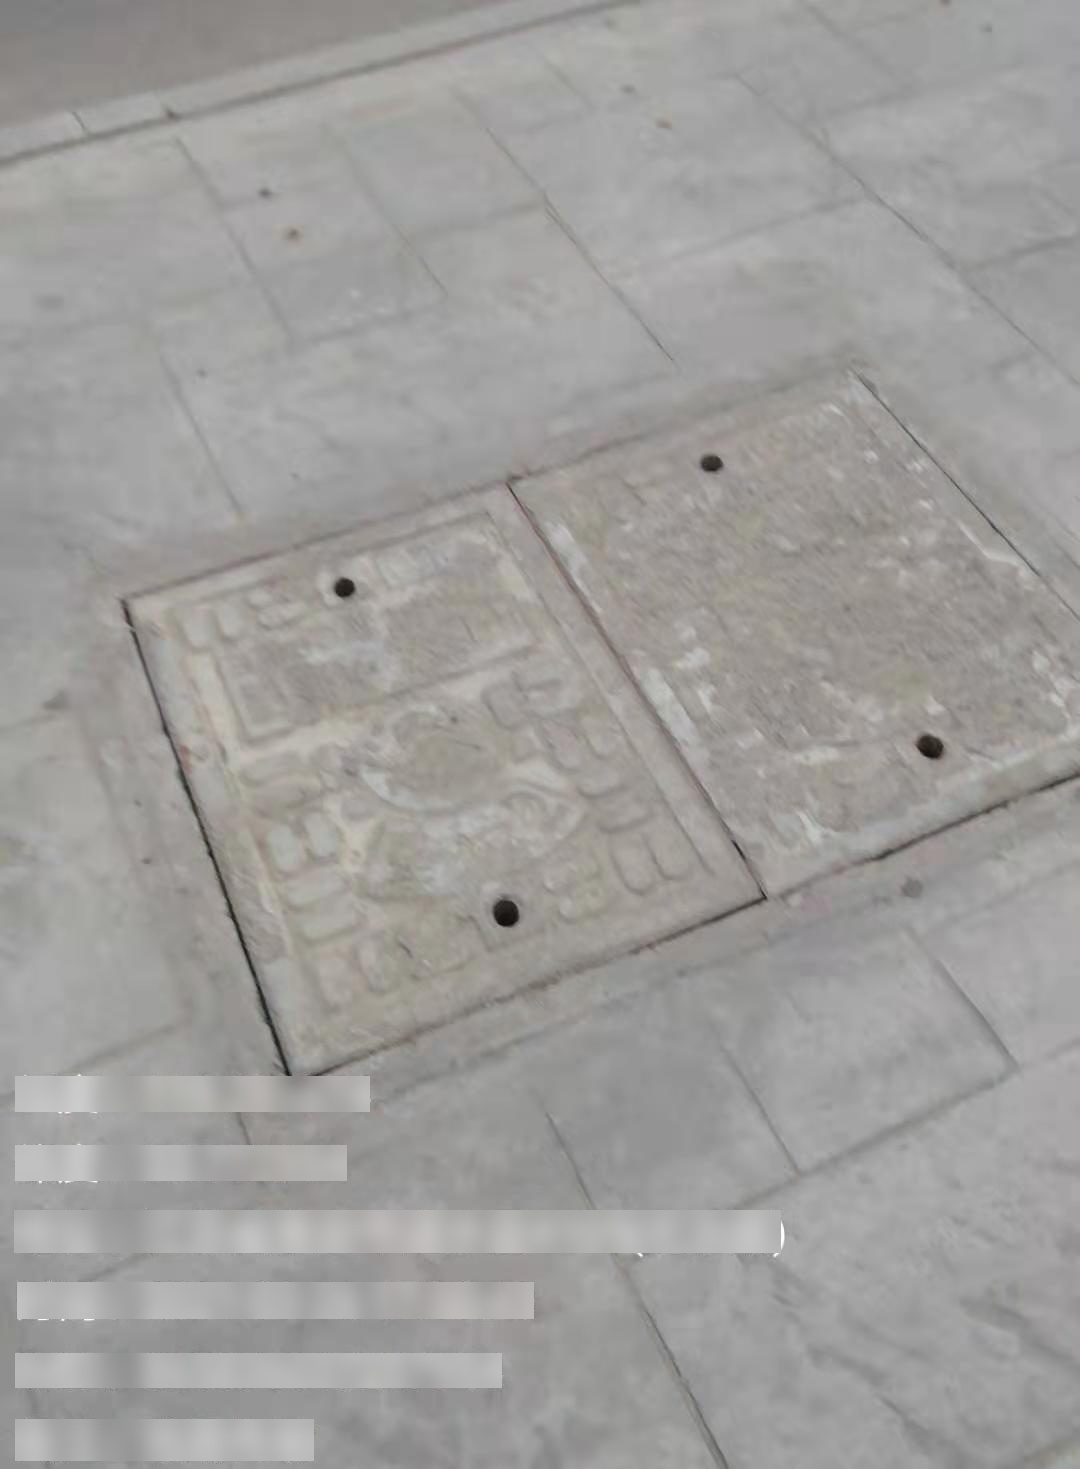good: (81, 350, 1080, 1119)
